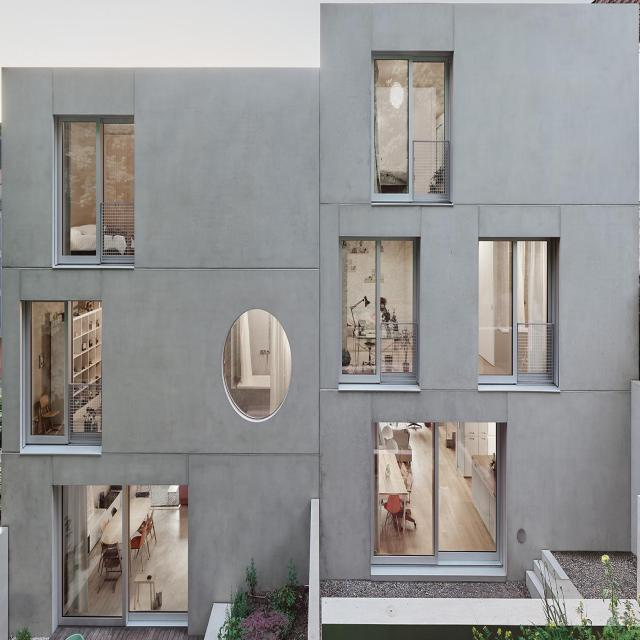door: (55, 479, 192, 627), (373, 421, 503, 567)
window: (476, 238, 554, 389), (371, 59, 452, 204), (336, 235, 416, 381), (25, 301, 102, 448), (57, 117, 132, 263), (227, 322, 289, 411)
